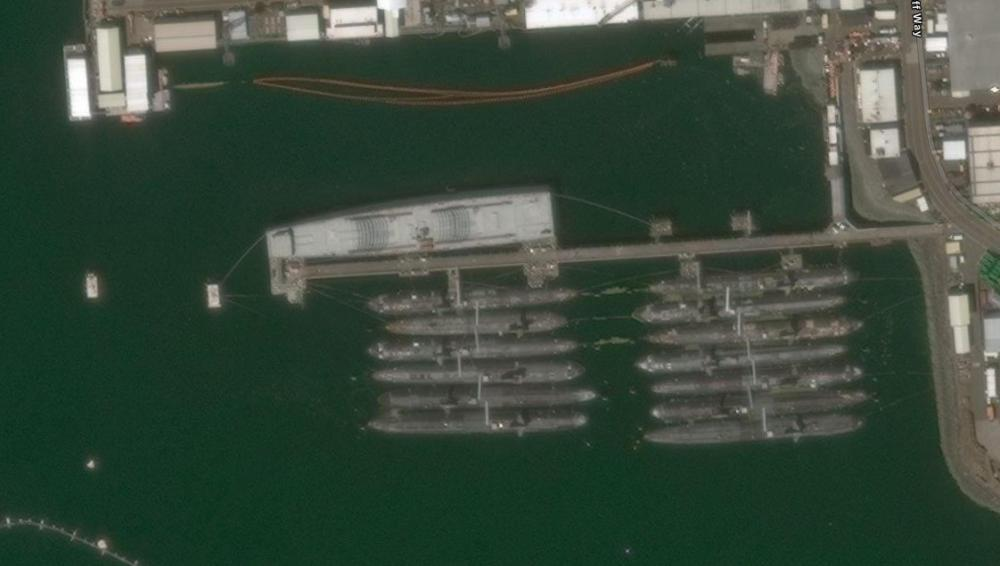submarine: (640, 411, 869, 459), (631, 256, 873, 299), (359, 412, 606, 453), (360, 277, 602, 314), (622, 367, 869, 402), (354, 338, 600, 368), (356, 388, 618, 415), (619, 293, 865, 321), (357, 364, 609, 391), (612, 323, 883, 347), (632, 392, 884, 417), (615, 350, 864, 375), (360, 312, 591, 337)
